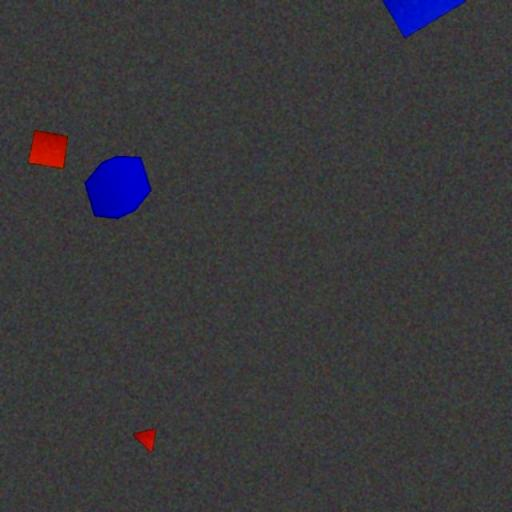BLUE_SQUARE: (372, 0, 466, 39)
RED_SQUARE: (28, 130, 68, 170)
